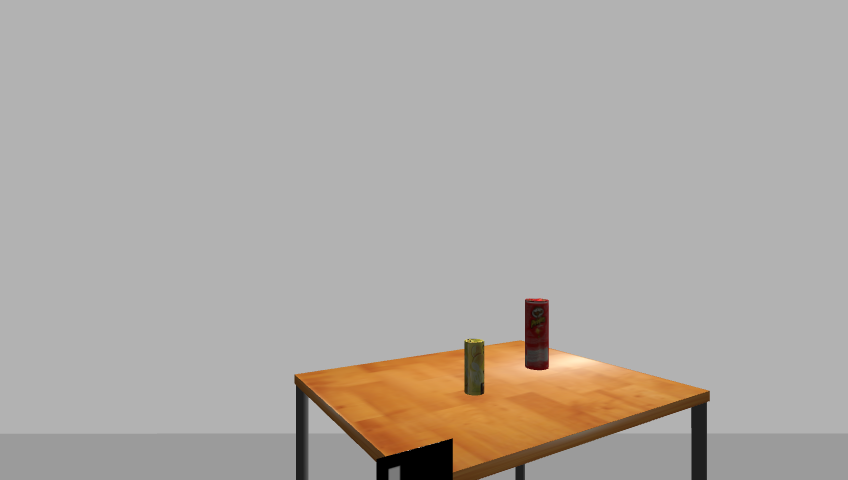aruco marker: (373, 438, 459, 480)
biscuits pack: (463, 338, 486, 396)
dinner table: (285, 342, 719, 480)
pringles can: (522, 298, 551, 372)
